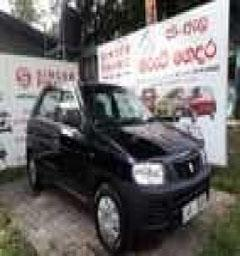car: (19, 70, 230, 256)
